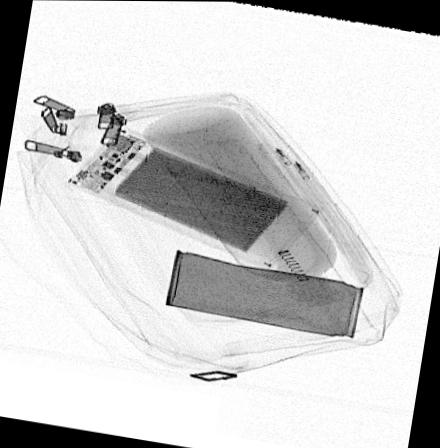Powerbank: (63, 123, 323, 272)
